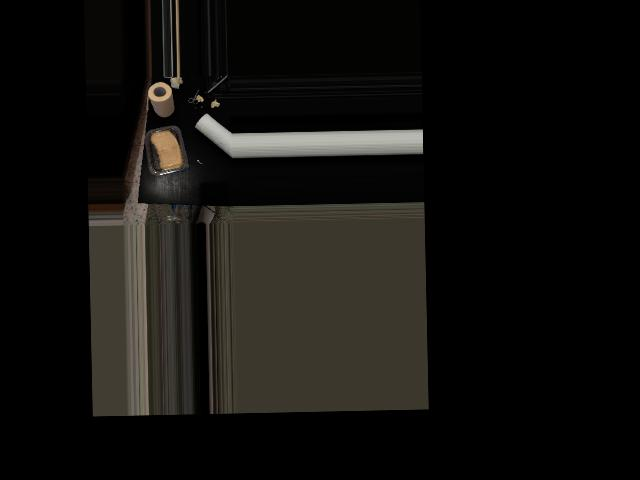cheese: (147, 125, 187, 176)
